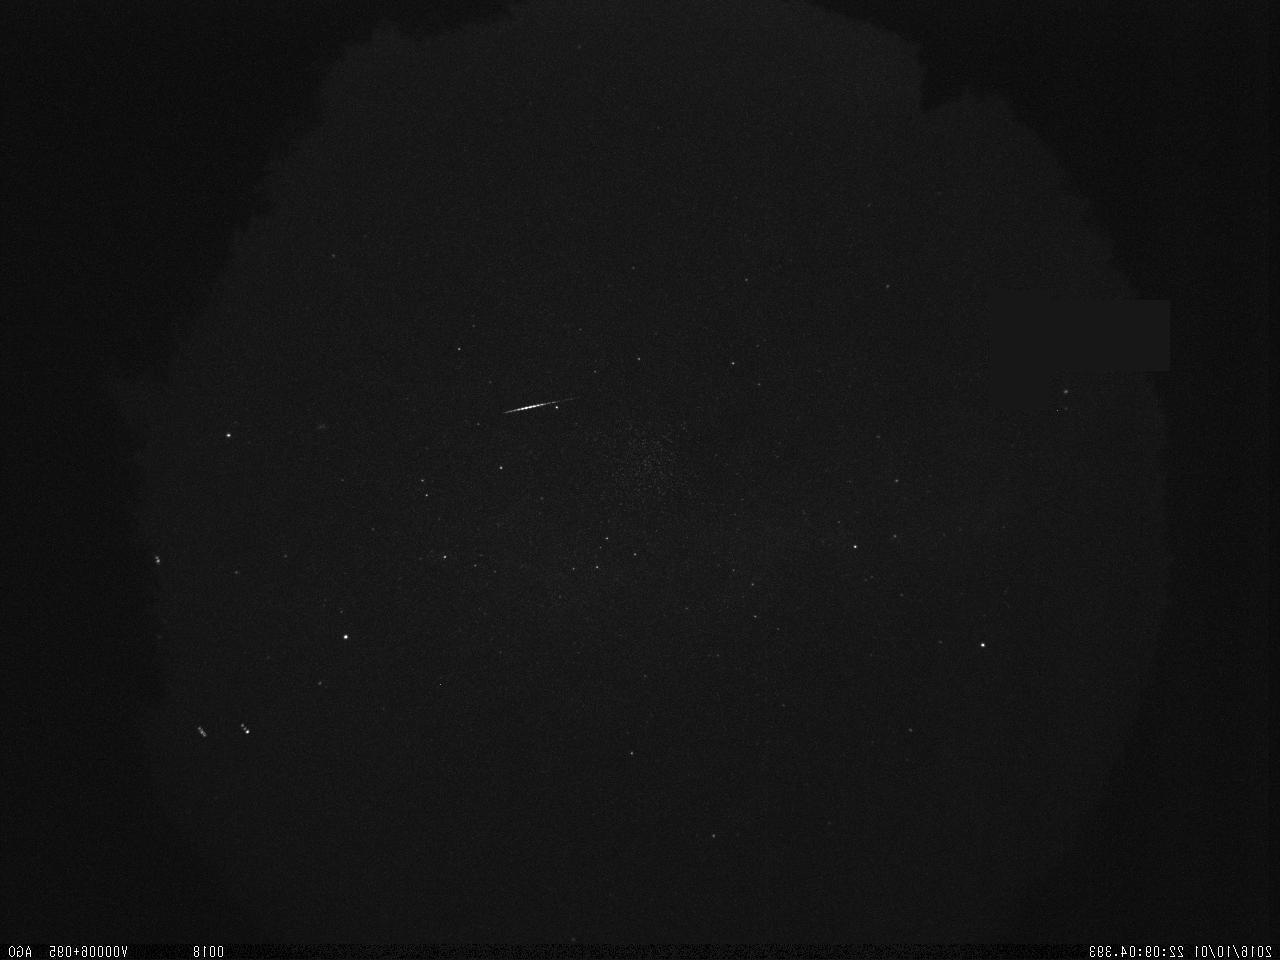meteor: (482, 373, 571, 460)
